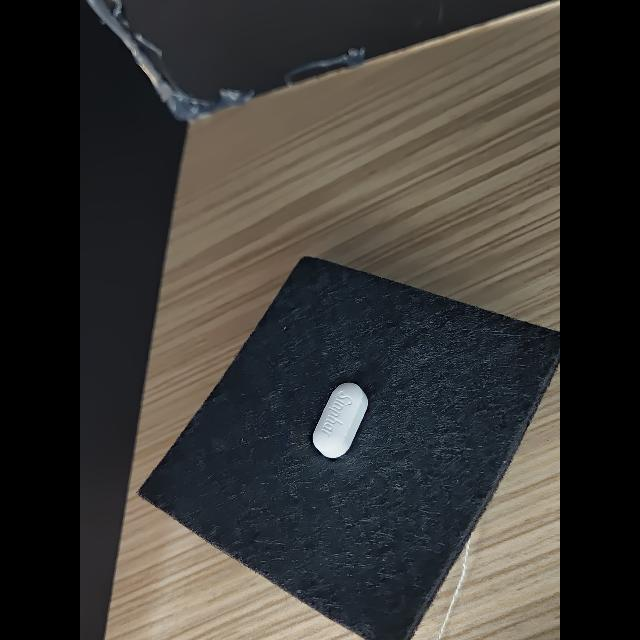Intact Pill: (313, 383, 368, 458)
